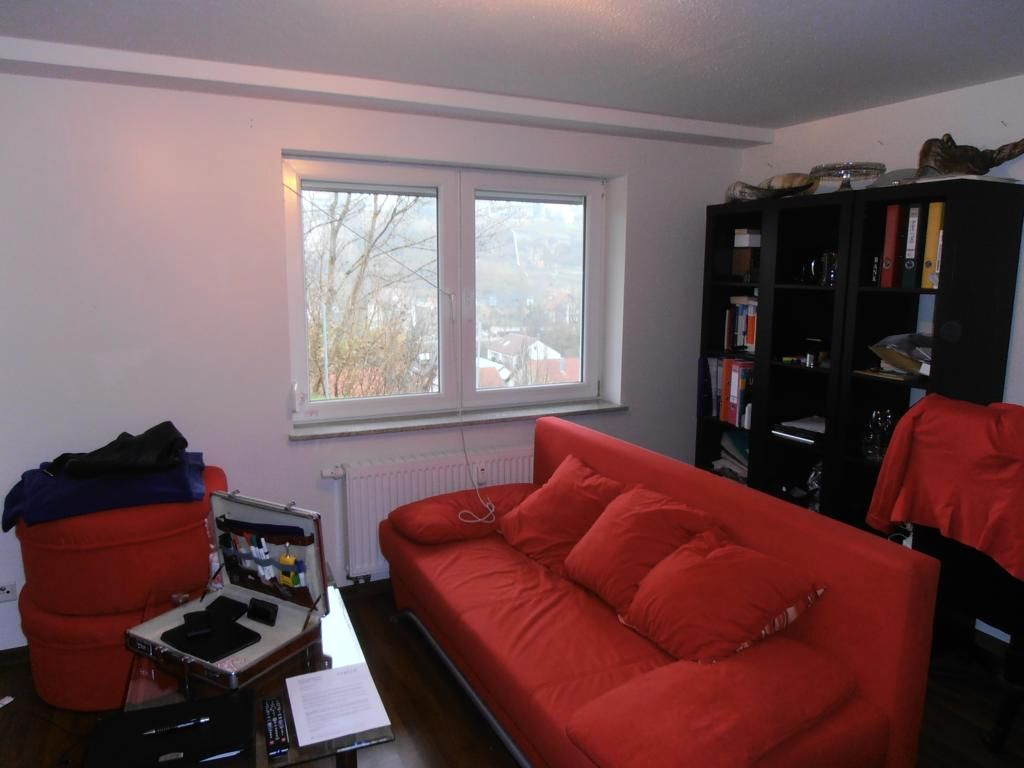windows: (283, 150, 620, 419)
